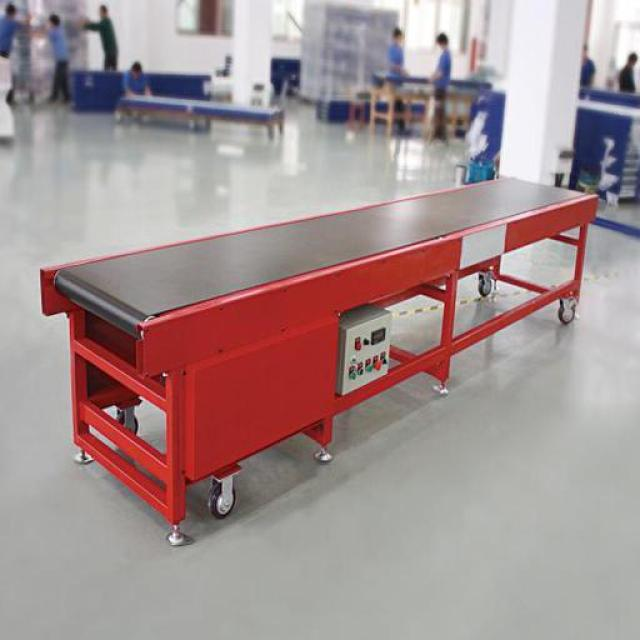conveyor: (48, 174, 582, 336)
